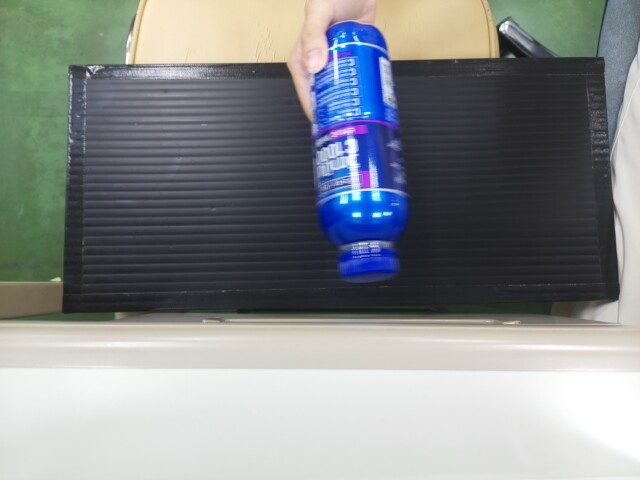plastic_bottle: (308, 18, 405, 274)
